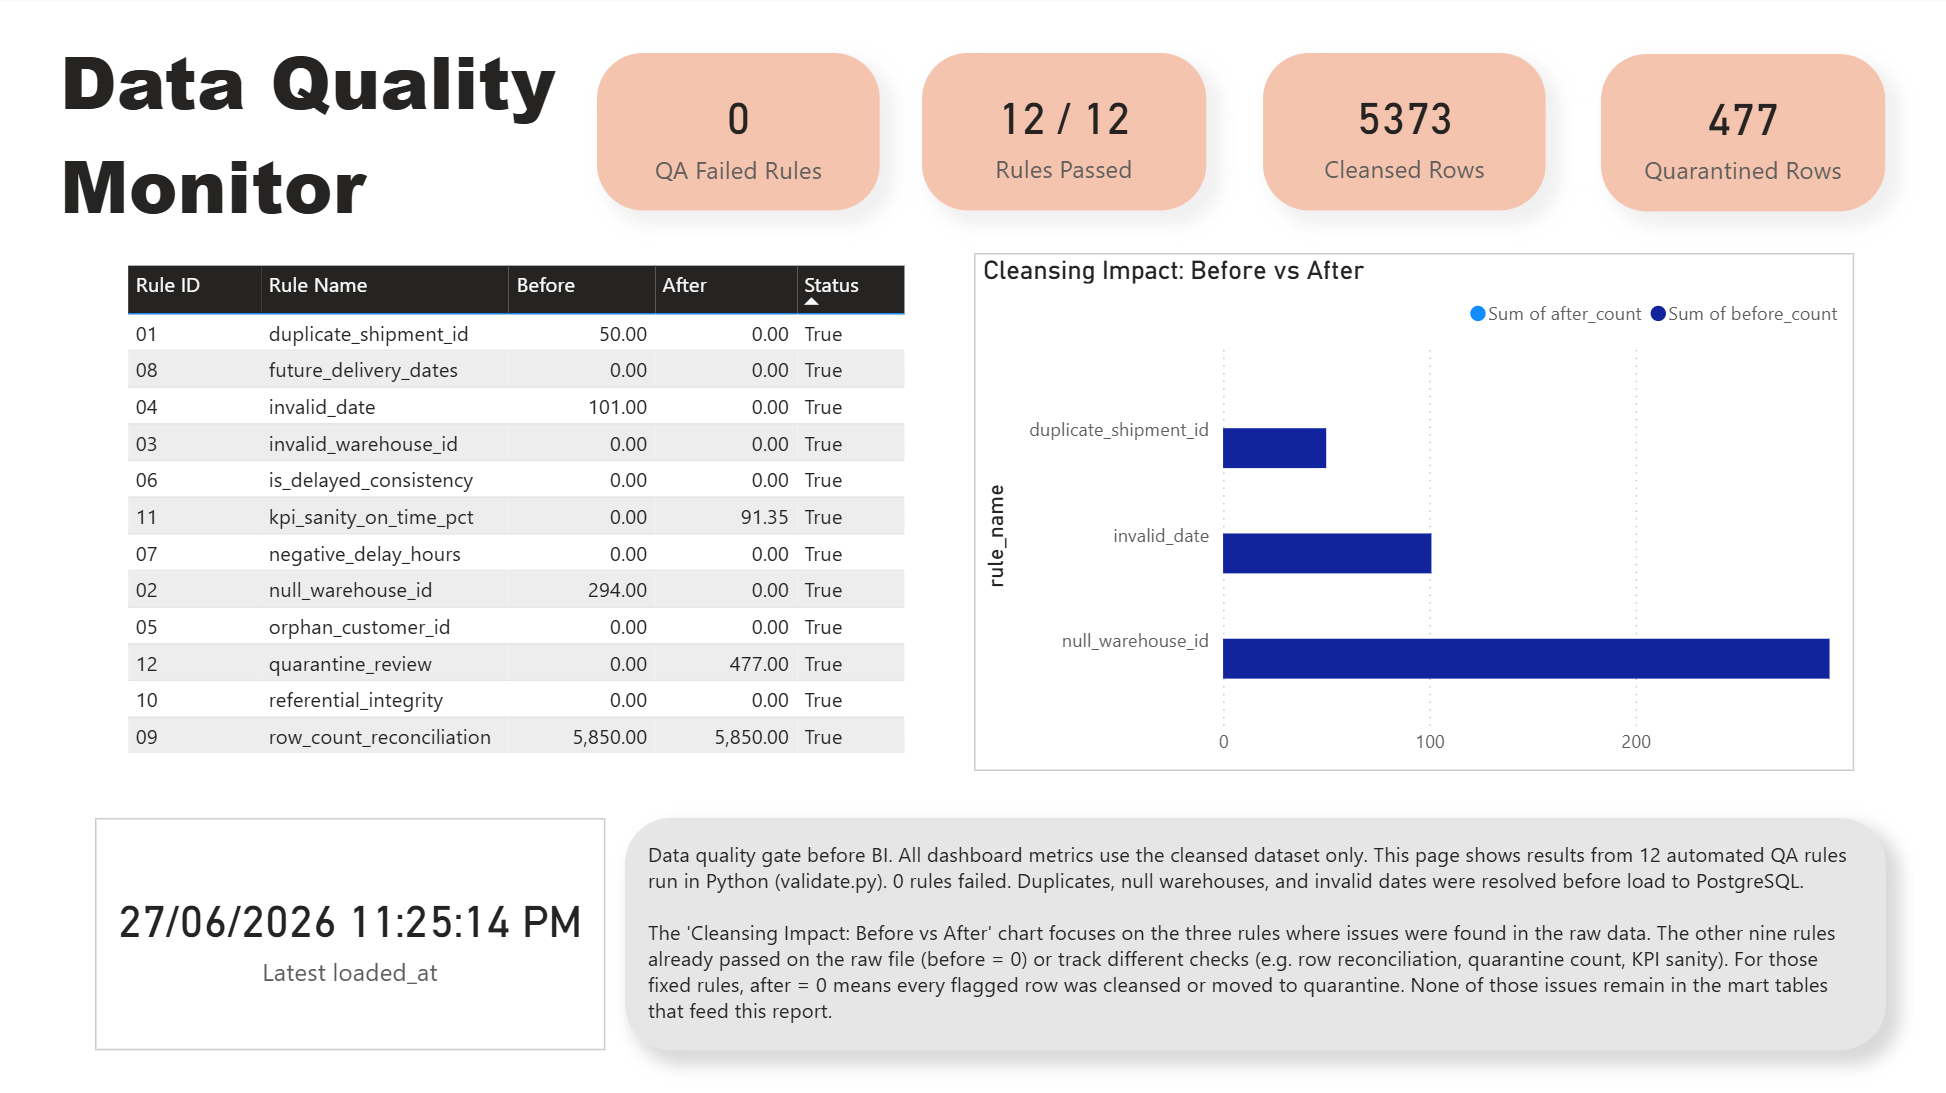

This screenshot's page, from the dashboard's own definition file:
{"tool":"powerbi","page":{"name":"Data Quality Monitor","canvas":[1280,720],"ordinal":2},"visuals":[{"type":"tableEx","fields":{"Values":["mart qa_summary.rule_id","mart qa_summary.rule_name","Sum(mart qa_summary.before_count)","Sum(mart qa_summary.after_count)","mart qa_summary.passed"]},"box":[80.5,170.8,535.3,348.1],"z":0},{"type":"textbox","box":[36.6,15.1,413.6,147.2],"z":1000},{"type":"card","fields":{"Values":["Max(mart qa_summary.loaded_at)"]},"box":[64.8,537.3,333.7,152.5],"z":2000},{"type":"card","fields":{"Values":["mart dim_customer.QA Failed Rules"]},"box":[393.3,36.6,185.2,103.4],"z":3000},{"type":"card","fields":{"Values":["mart dim_date.Rules Passed"]},"box":[606,36.6,185.8,102.7],"z":4000},{"type":"card","fields":{"Values":["mart dim_date.Cleansed Rows"]},"box":[829.1,36.6,185.2,102.7],"z":5000},{"type":"card","fields":{"Values":["mart dim_date.Quarantined Rows"]},"box":[1050.3,37.3,185.8,102.7],"z":6000},{"type":"clusteredBarChart","title":"\t Cleansing Impact: Before vs After","fields":{"Y":["Sum(mart qa_summary.after_count)","Sum(mart qa_summary.before_count)"],"Category":["mart qa_summary.rule_name"]},"box":[640,167.5,575.9,339],"z":7000},{"type":"textbox","box":[411.6,537.3,824.5,152.5],"z":8000}]}

Visuals, with their boxes in screenshot pixels (x1, y1, x2, y2), scaled from the page's 1280x720 canvas onto the 1946x1093 screenshot:
tableEx - mart qa_summary.rule_id x mart qa_summary.rule_name: box(122, 259, 936, 788)
textbox: box(56, 23, 684, 246)
card - Max(mart qa_summary.loaded_at): box(99, 816, 606, 1047)
card - mart dim_customer.QA Failed Rules: box(598, 56, 880, 213)
card - mart dim_date.Rules Passed: box(921, 56, 1204, 211)
card - mart dim_date.Cleansed Rows: box(1260, 56, 1542, 211)
card - mart dim_date.Quarantined Rows: box(1597, 57, 1879, 213)
"	 Cleansing Impact: Before vs After" clusteredBarChart: box(973, 254, 1849, 769)
textbox: box(626, 816, 1879, 1047)
